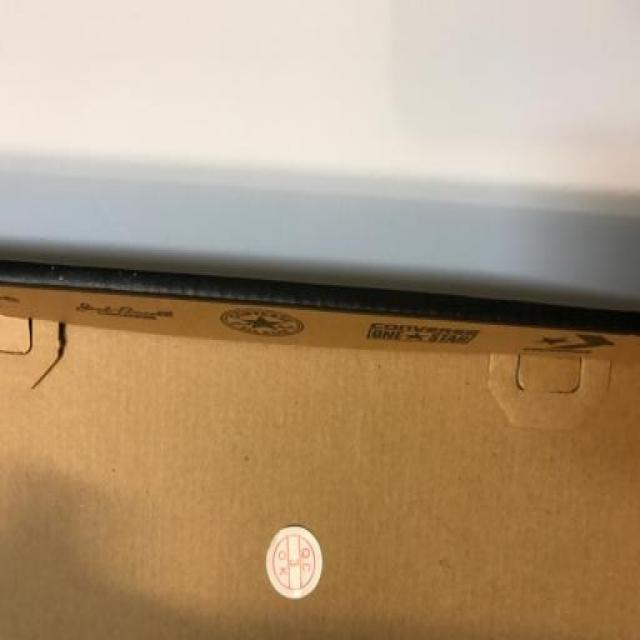cardboard paper: (0, 285, 638, 638)
